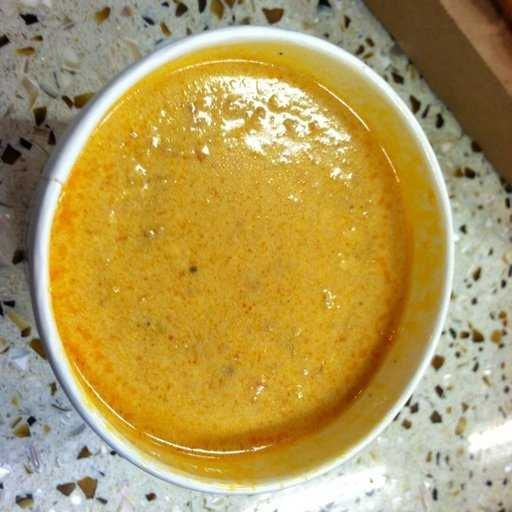soup: (47, 31, 445, 490)
